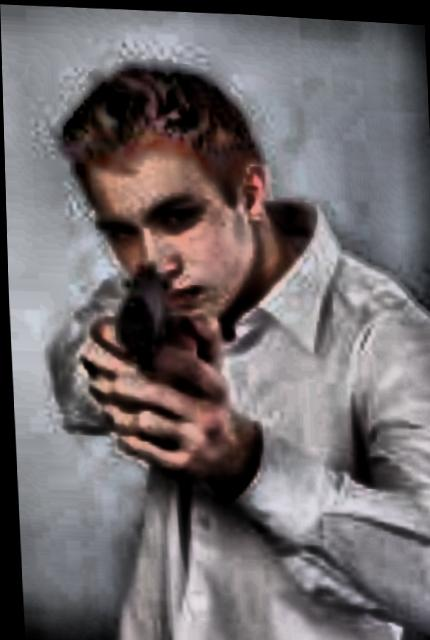pistol: (97, 242, 178, 383)
